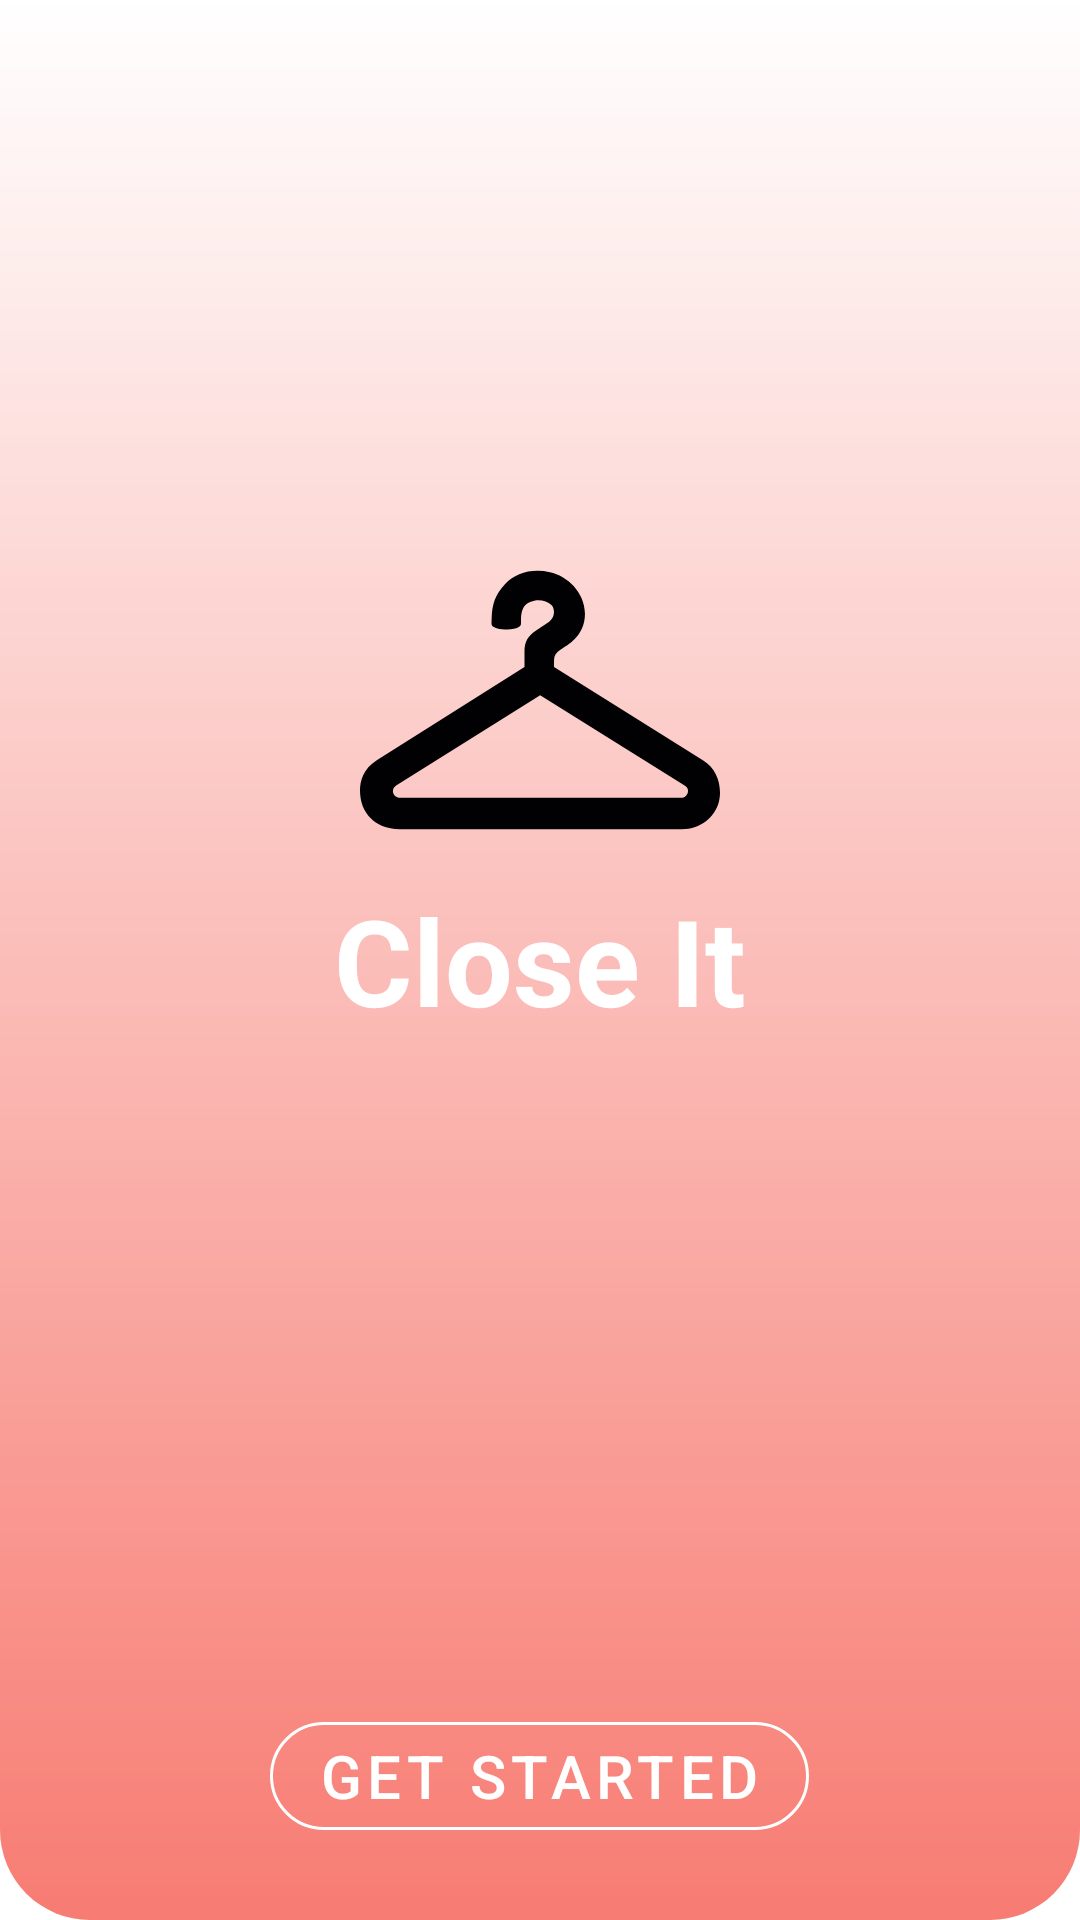

Screen size 1080px×1920px. Icon name, then its box in pixels as (x1, y1, x2, y2):
hanger: (360, 570, 720, 880)
